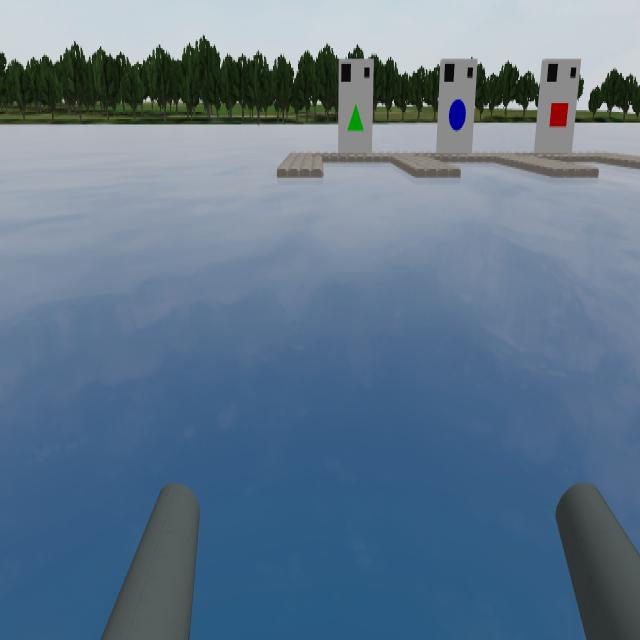dock: (338, 61, 372, 150), (439, 63, 473, 149), (544, 61, 577, 145)
